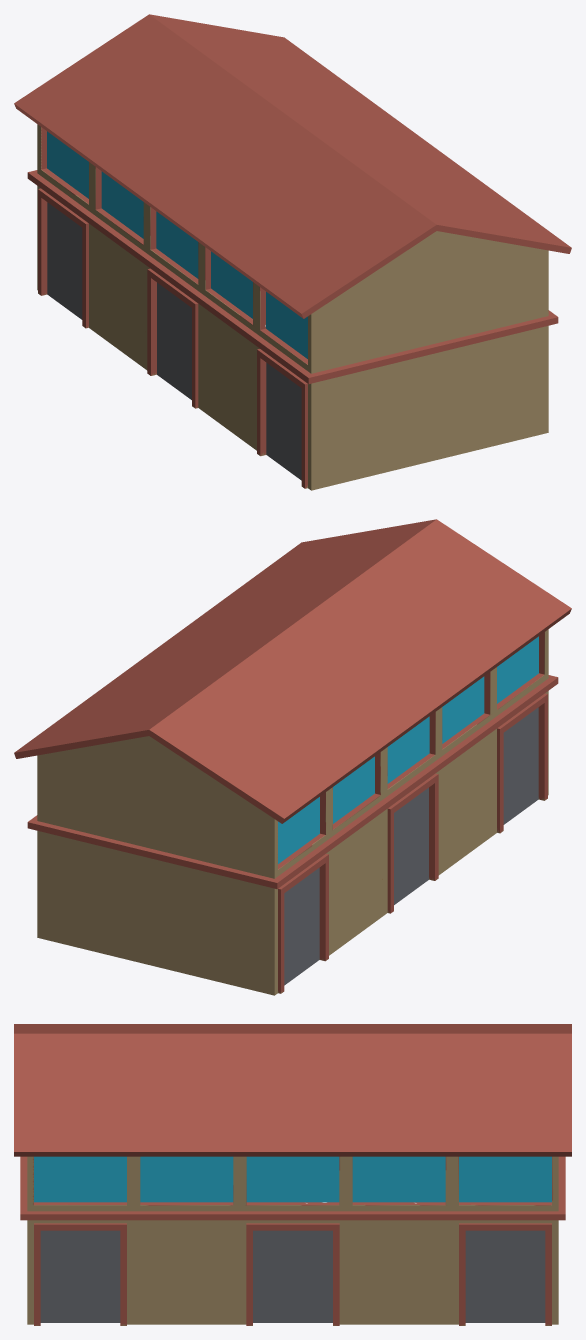
File: warehouse.gltf
3 views of the same model, one above another, from view 1: azimuth 30°, elevation 25°; view 2: azimuth 150°, elevation 25°; view 3: azimuth 270°, elevation 25° (orthographic). The views are drawn at different scales.
Visible parts, largest first — view 1: 立方体; view 2: 立方体; view 3: 立方体.
Boxes of the visible parts, left/top/right/bottom form: 立方体: left=14, top=14, right=571, bottom=490; 立方体: left=14, top=519, right=571, bottom=995; 立方体: left=14, top=1024, right=571, bottom=1325.
Size of what is drawn, in the model's own units: 22.81 by 19.5 by 42.
Materials: 1 (1 with a texture image).
